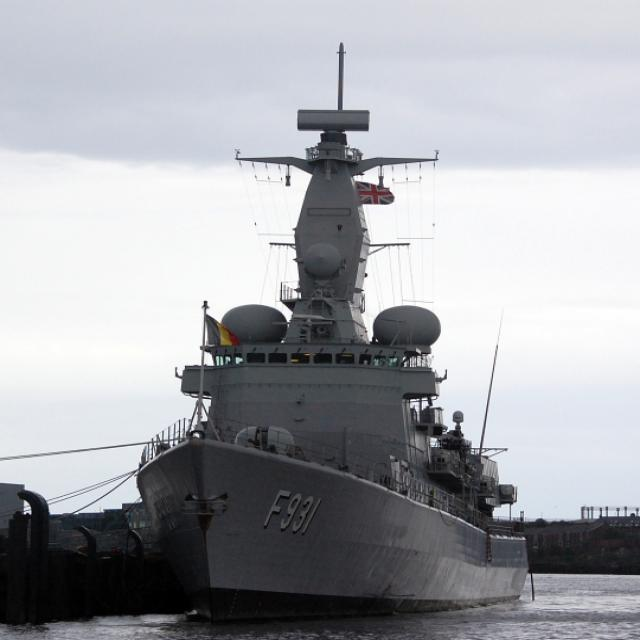Fragata: (127, 34, 533, 622)
